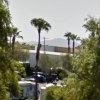Tree: (60, 30, 95, 100)
